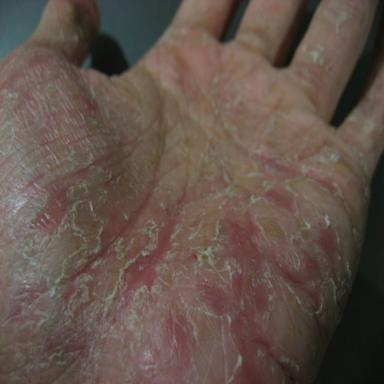eczema: (1, 0, 384, 384)
